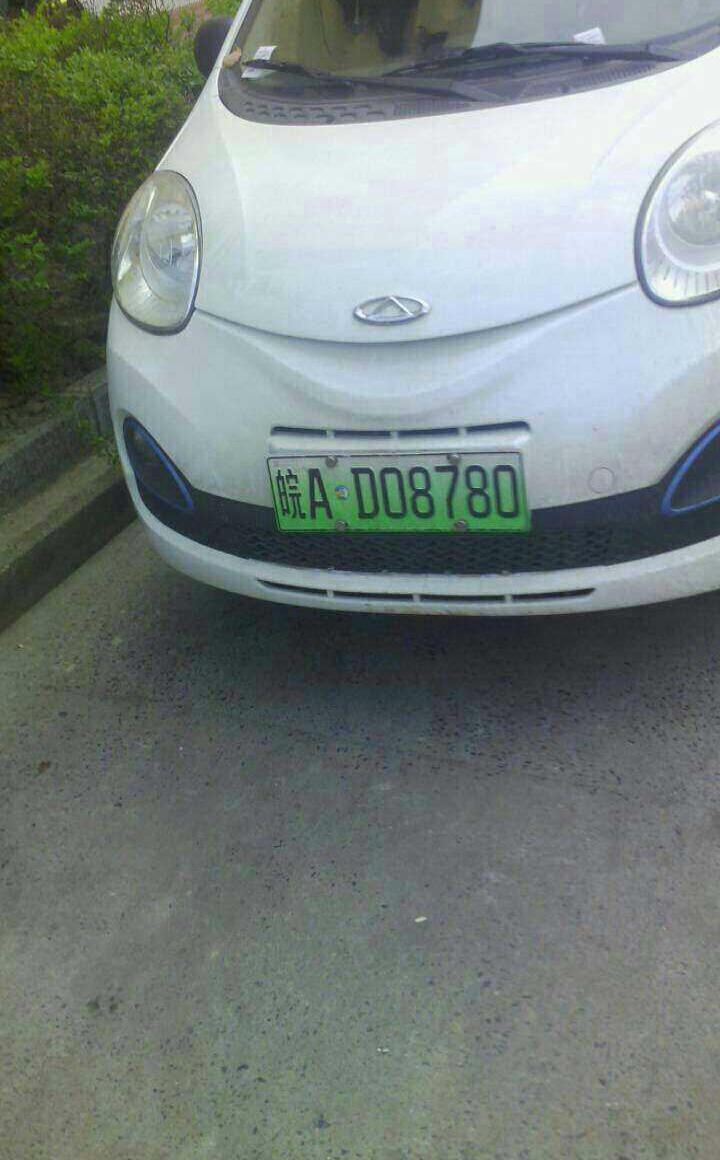car_green: (265, 444, 539, 542)
